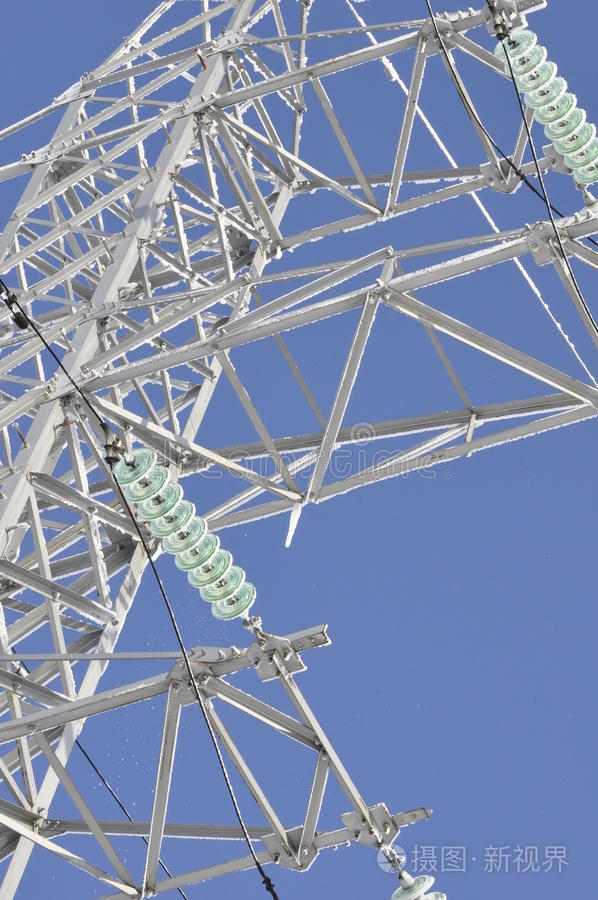insulator: (114, 446, 254, 618), (493, 31, 598, 185)
